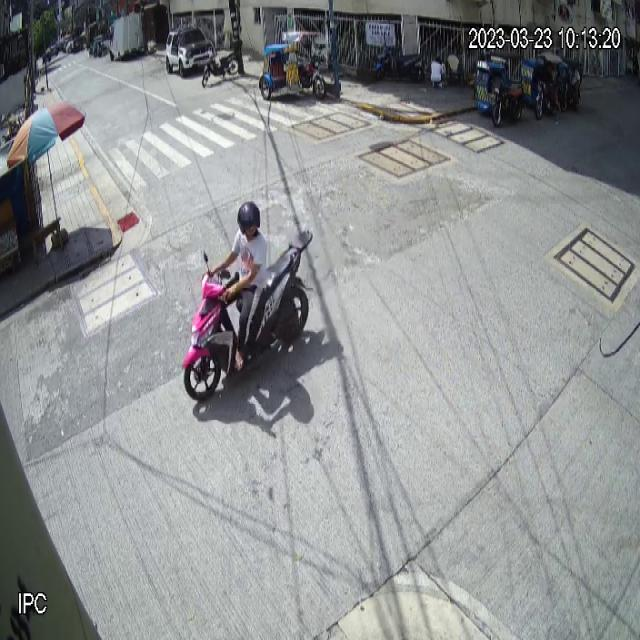Motorcycle: (183, 229, 314, 404)
Tricycle: (258, 29, 326, 100), (475, 51, 526, 128)
